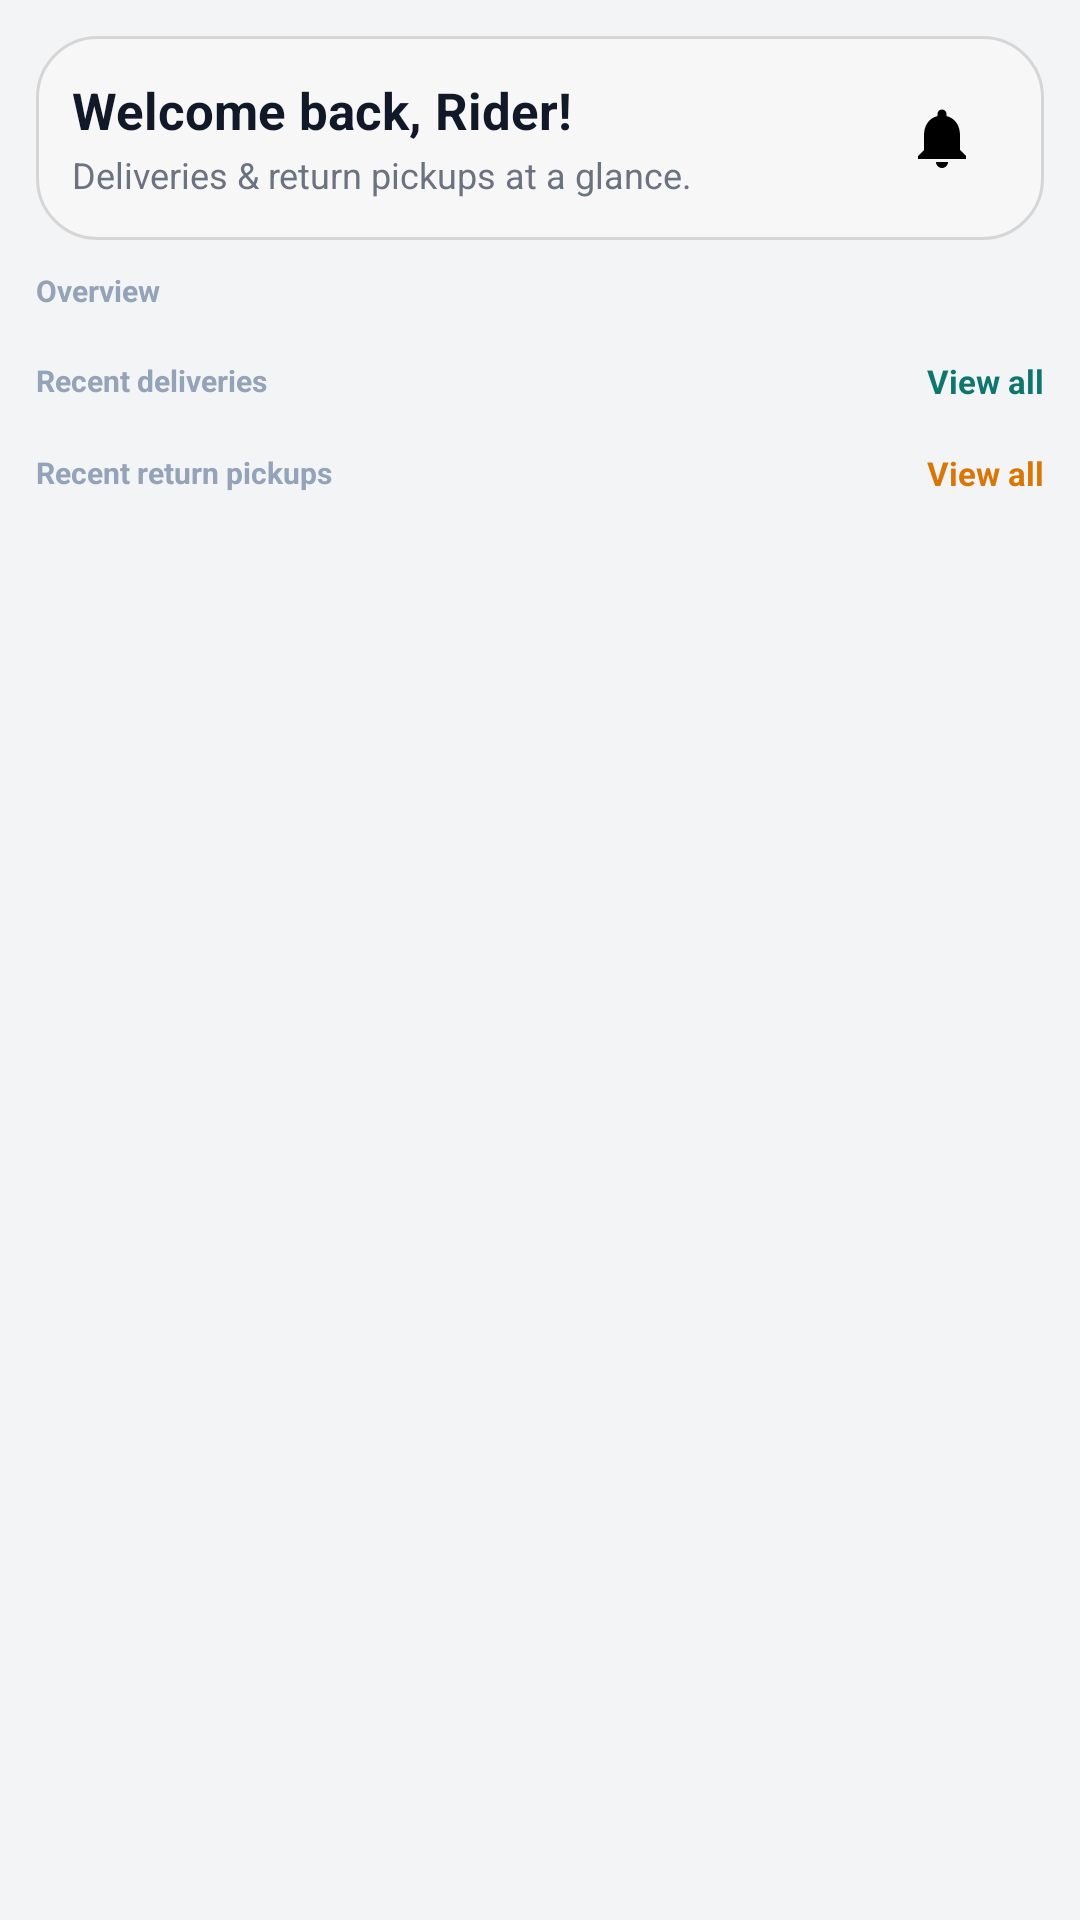

Named icons in this screenshot (1080x1920) and their centers, (x=x, y=y):
Notifications: (x=942, y=138)
